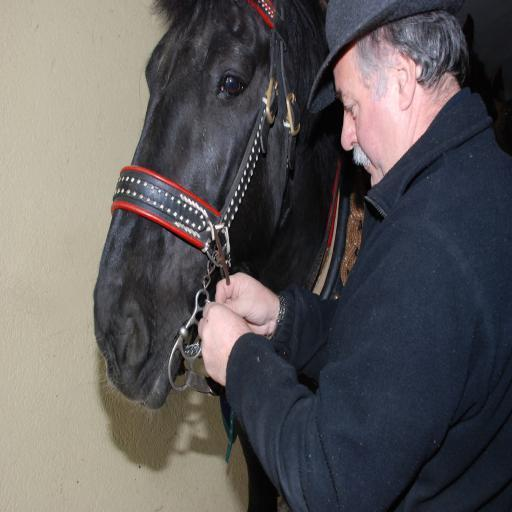horse: (93, 0, 512, 511)
